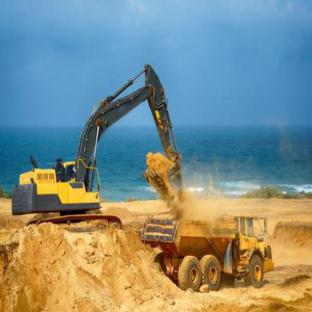ExcavationMachinery: (24, 58, 187, 244)
Vehicle: (140, 204, 294, 301)
